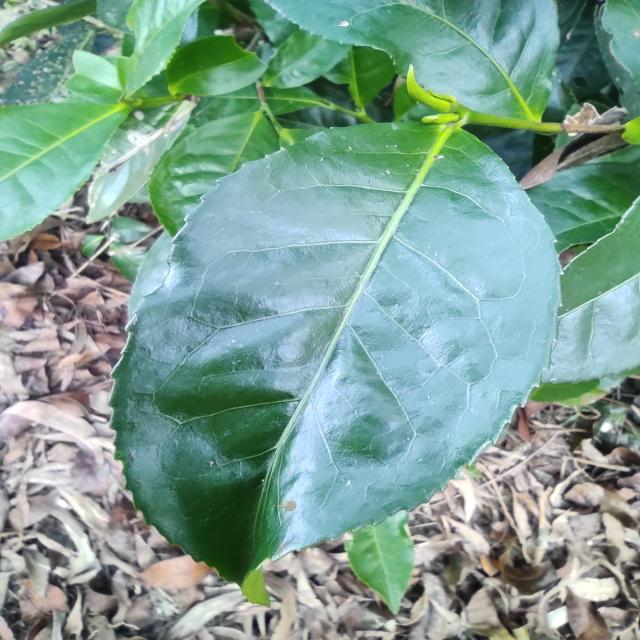Category D(7+ days, Not for Tea): (88, 102, 572, 604)
